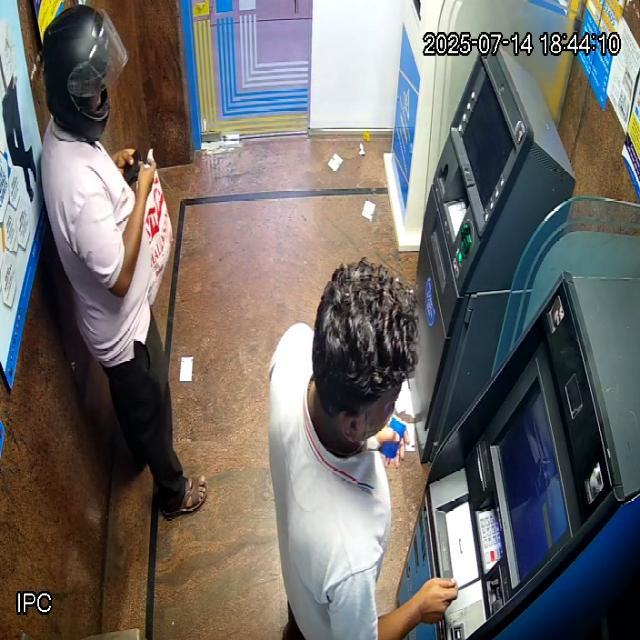helmet: (42, 5, 130, 141)
no_helmet: (308, 258, 419, 456)
